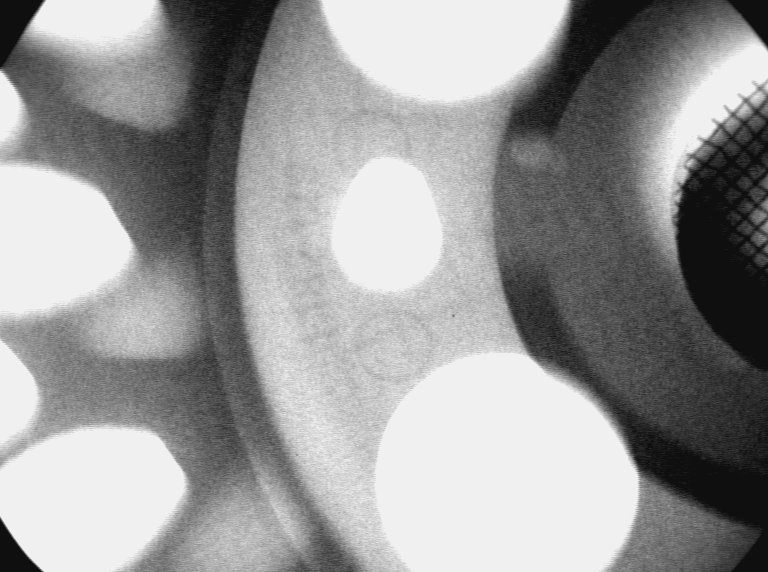defect: (511, 130, 569, 184)
